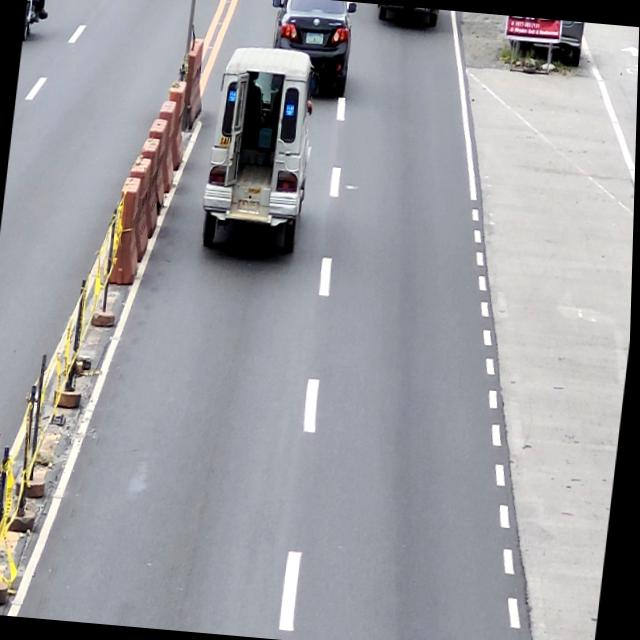Car: (262, 0, 358, 97)
Jeep: (195, 40, 323, 266)
License-Plate: (236, 197, 261, 213), (304, 32, 324, 46)
